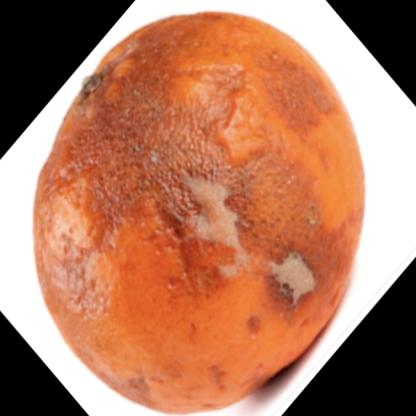rotten: (32, 14, 368, 416)
